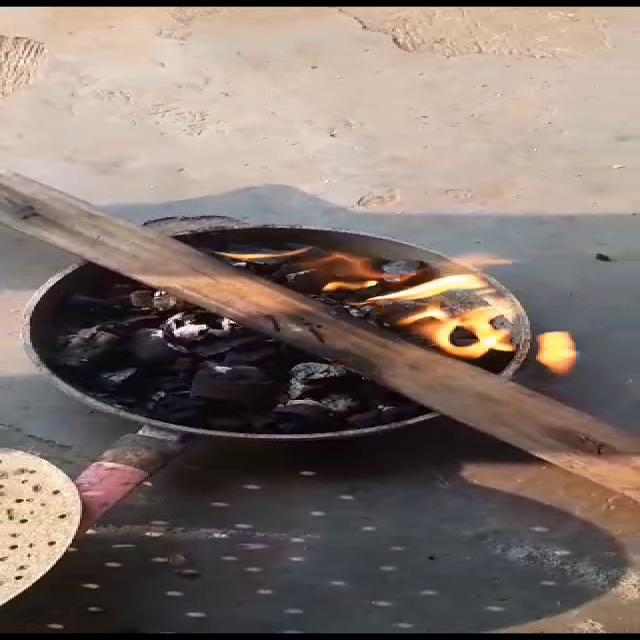Fire: (214, 220, 602, 376)
